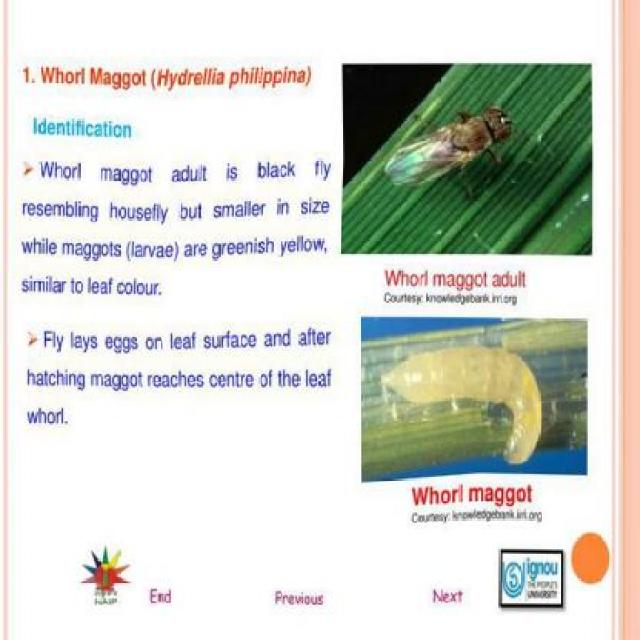whorl-maggot: (371, 338, 552, 469)
